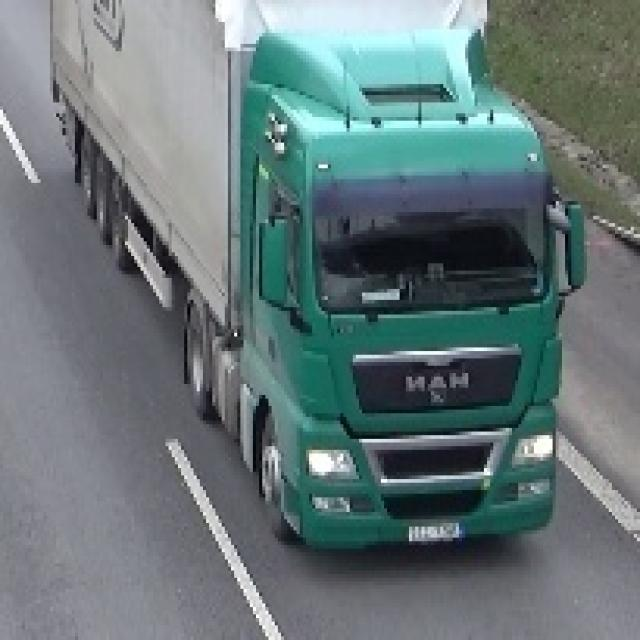TRUCK: (35, 5, 576, 566)
